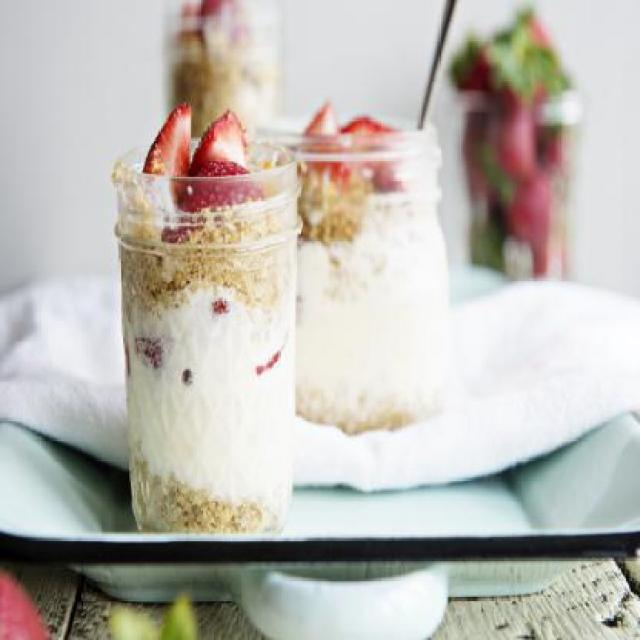Strawberry: (166, 158, 266, 240), (183, 104, 249, 188), (294, 100, 358, 184), (140, 109, 194, 180), (341, 113, 401, 141)
